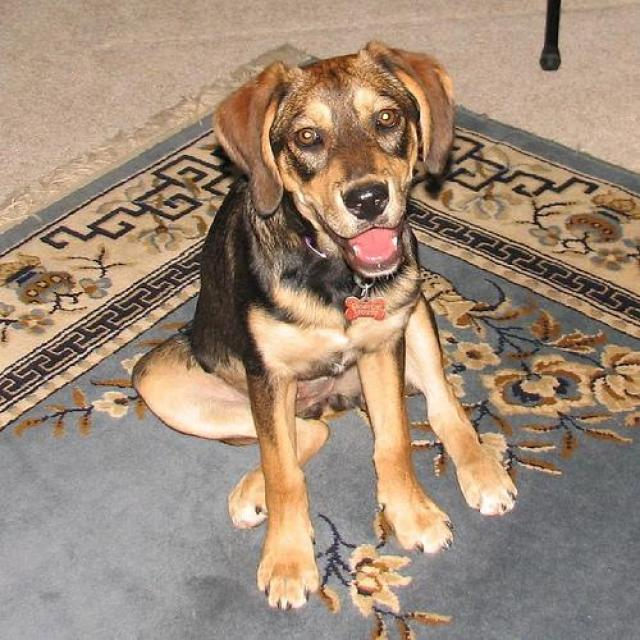happy: (116, 26, 534, 611)
